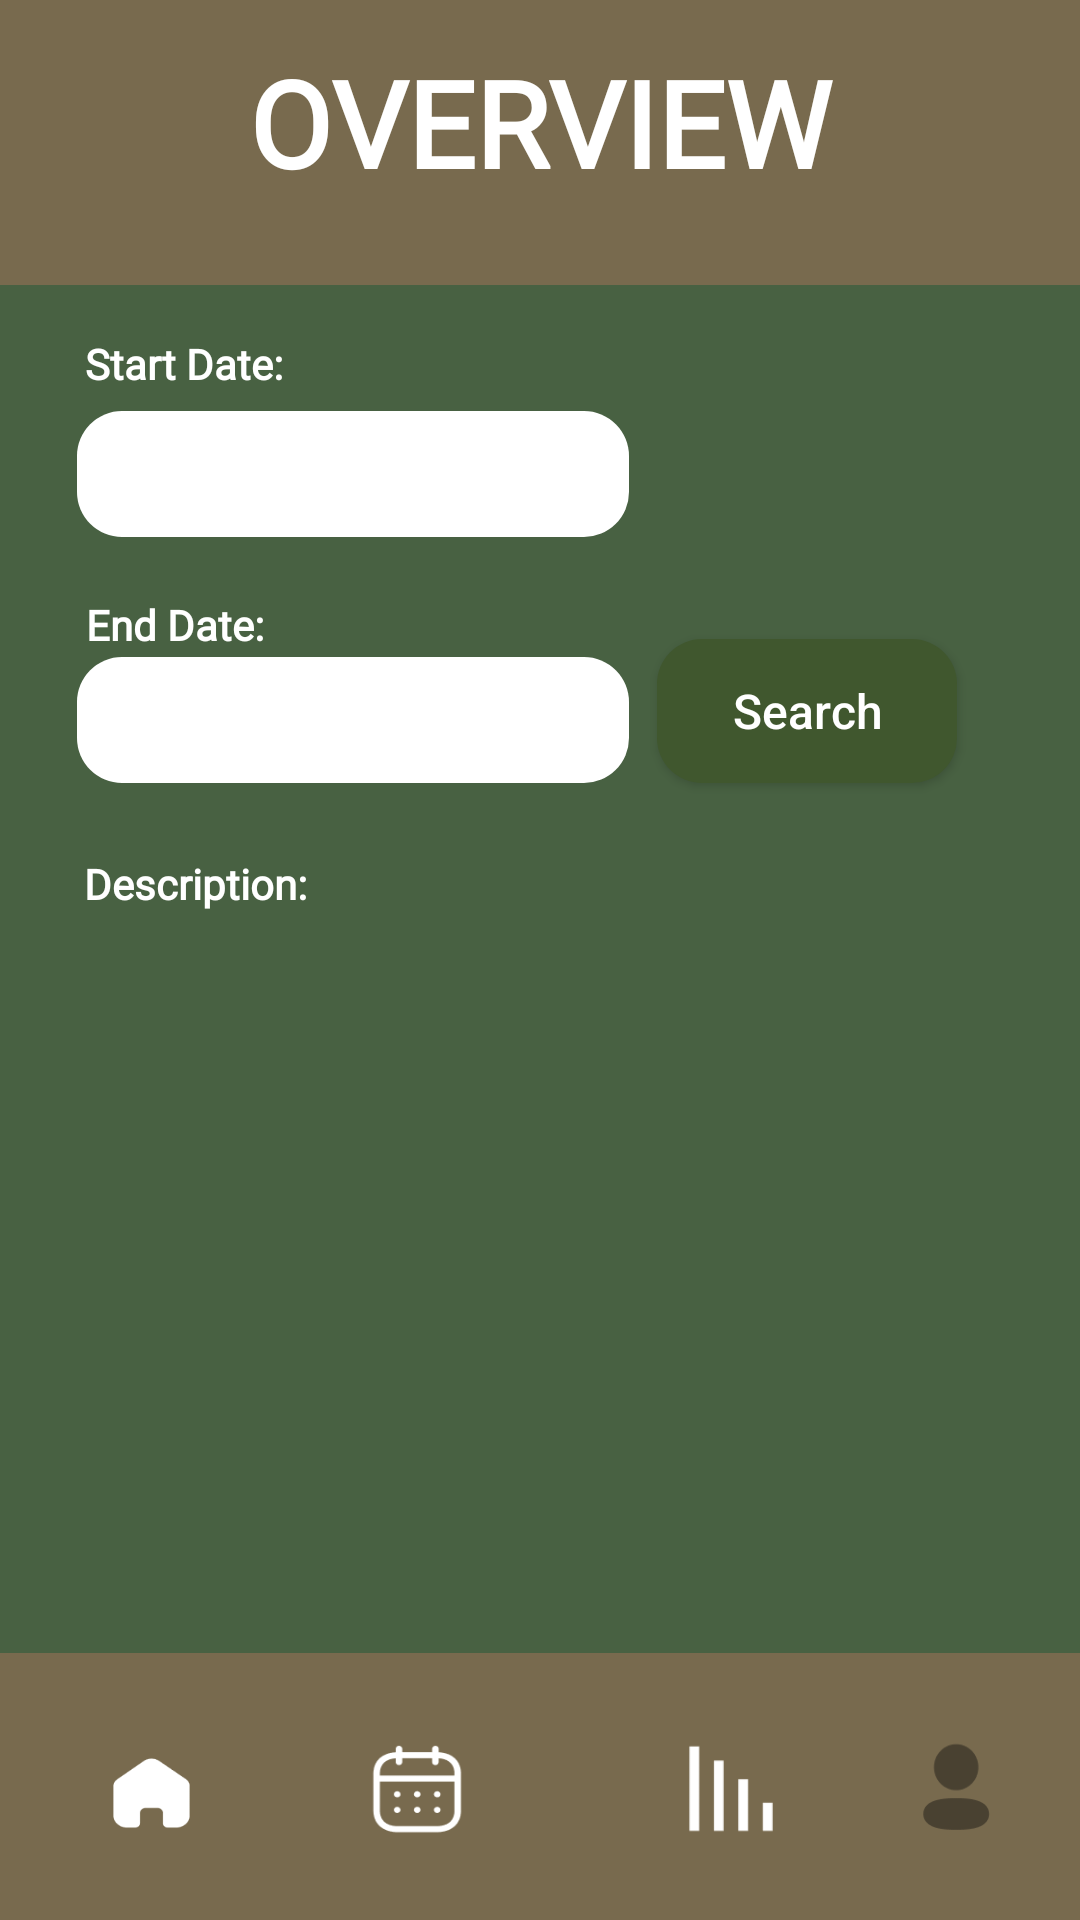

Where to tap for icons on this 1080×1920 app screen, as point (x, y):
graph buttton: point (731, 1789)
